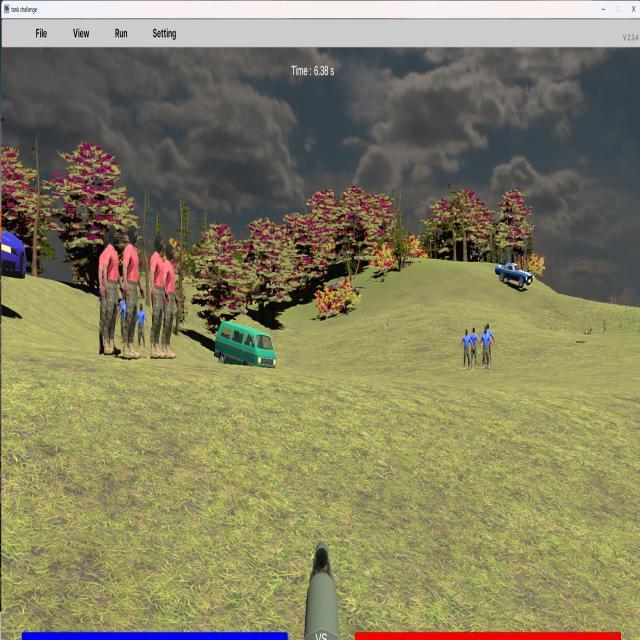Human: (120, 226, 145, 356), (99, 226, 123, 355), (149, 234, 167, 355), (162, 244, 178, 359), (134, 303, 148, 357), (459, 328, 474, 372), (479, 327, 494, 370), (468, 326, 480, 367)
car: (214, 321, 276, 374), (495, 262, 534, 288)
